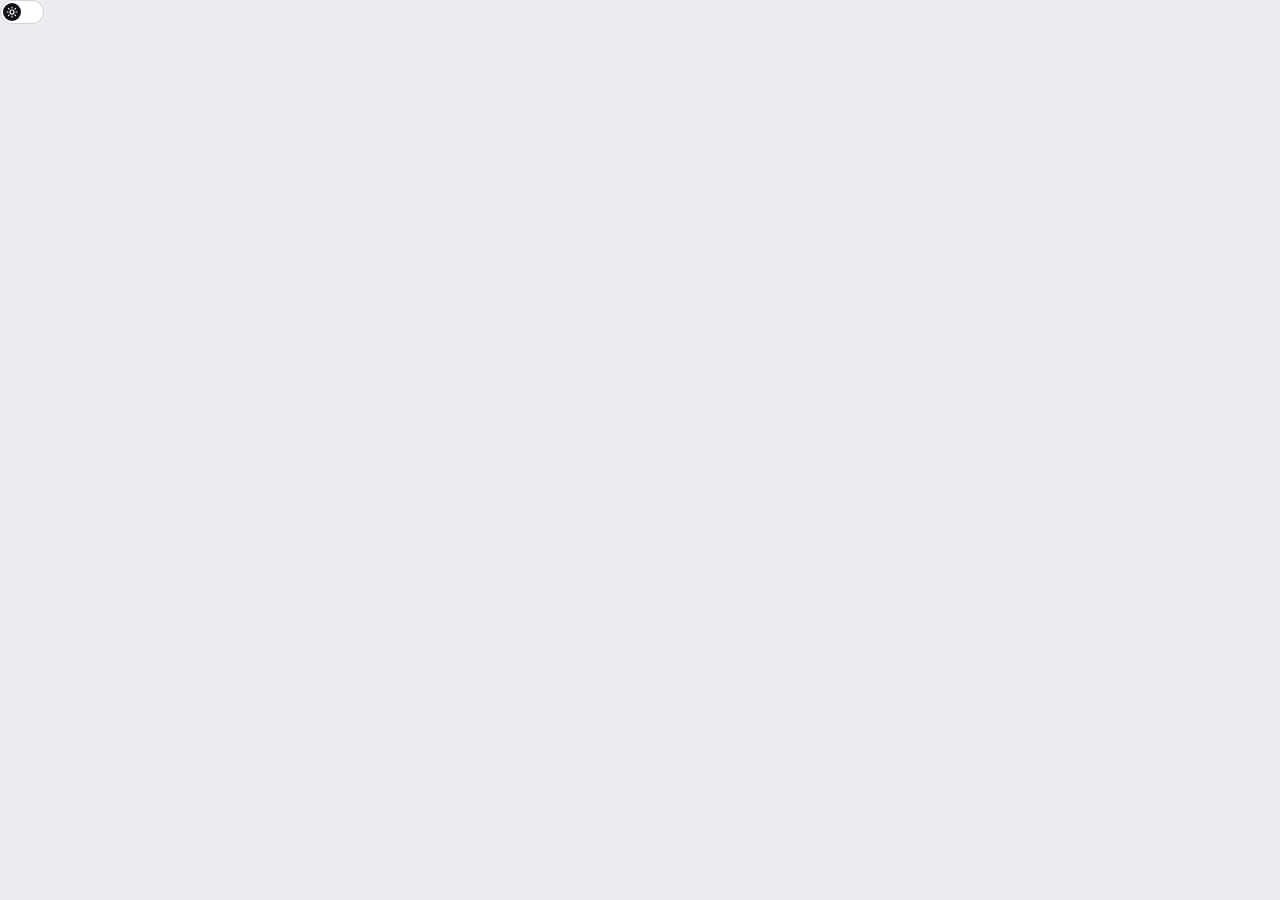
it: ThemeToggle › switches the theme on the document and remembers it
Click the switch named "Tema scuro".
click(22, 12)  # box [0,0,44,24]
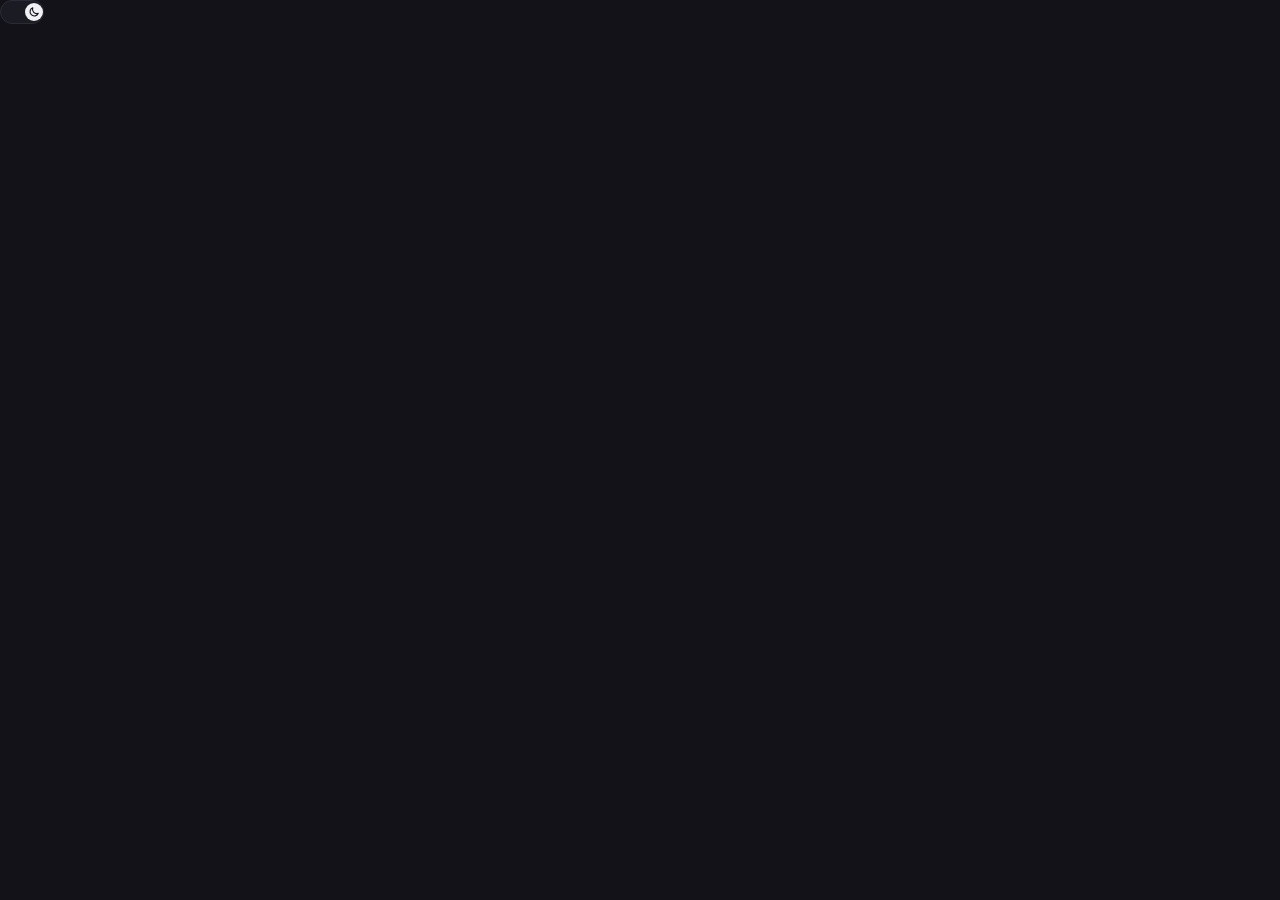
Check: the switch named "Tema scuro" is checked
Click the switch named "Tema scuro".
click(22, 12)  # box [0,0,44,24]
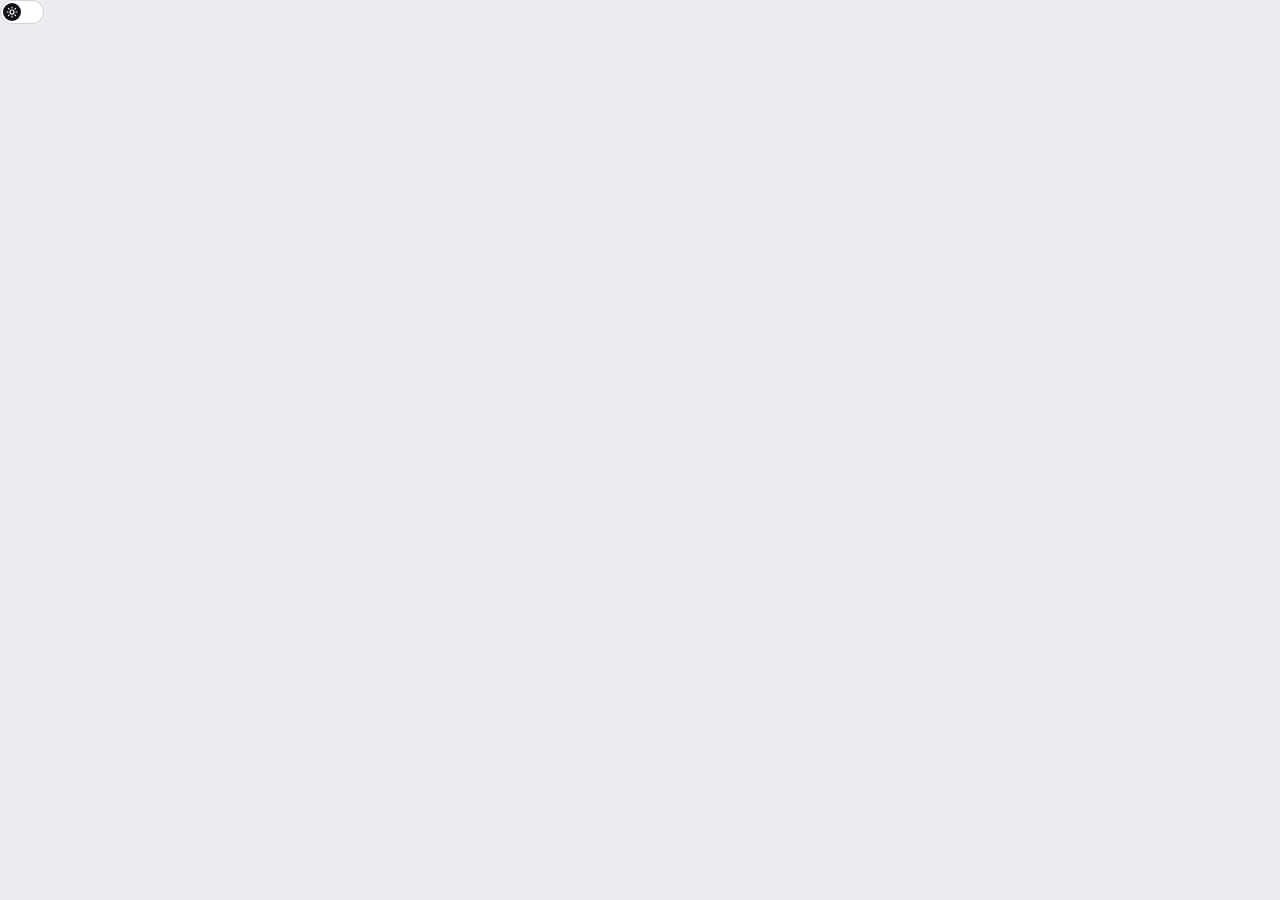
Check: the switch named "Tema scuro" is not checked, box [0,0,44,24]
